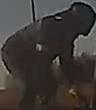vest: (1, 11, 74, 65)
